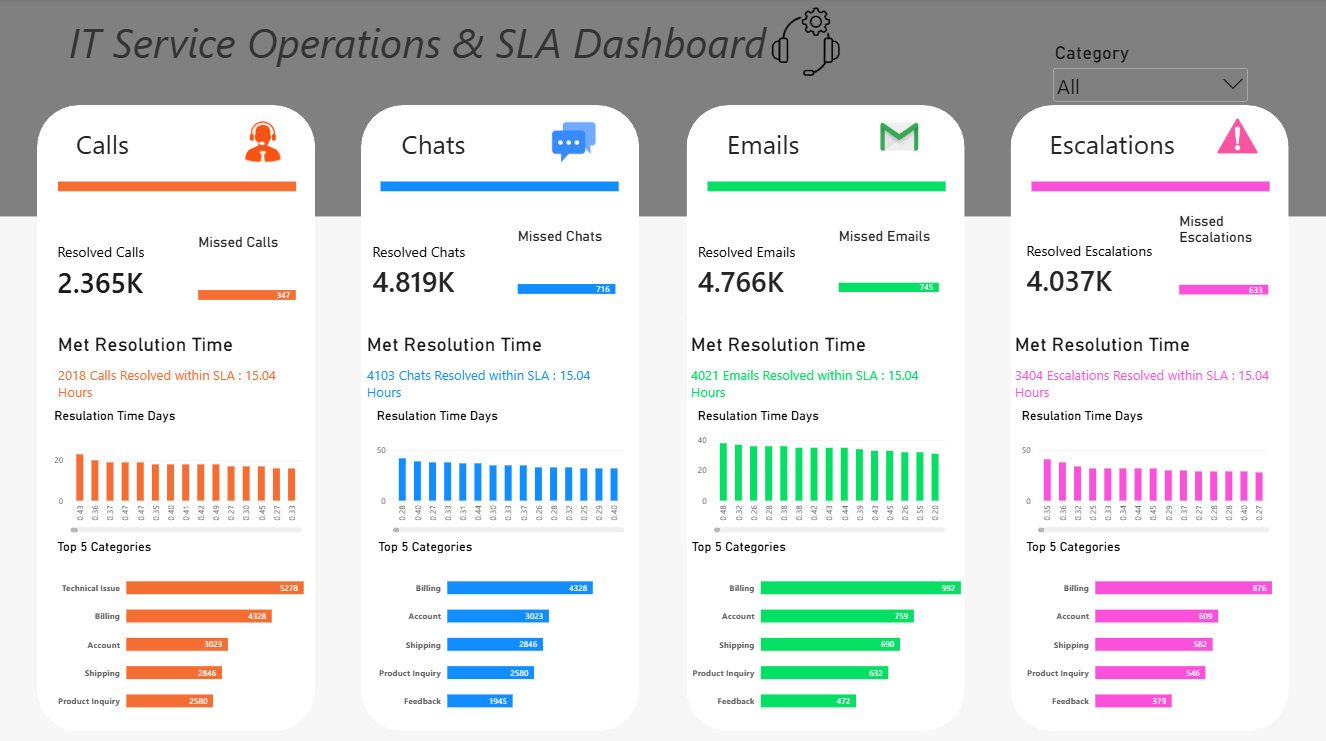

What the dashboard file says about the page in this screenshot:
{"tool":"powerbi","page":{"name":"Page 1","canvas":[1920,1080],"ordinal":0},"visuals":[{"type":"shape","box":[0,4.8,1920.7,310.2],"z":0},{"type":"shape","box":[1462.6,155.1,398.4,897.1],"z":1000},{"type":"shape","box":[999.7,155.1,398.4,897.1],"z":2000},{"type":"shape","box":[532.1,155.1,398.4,897.1],"z":3000},{"type":"shape","box":[69.2,155.1,398.4,897.1],"z":4000},{"type":"cardVisual","fields":{"Data":["customer_support_tickets.Total Tickets"]},"box":[81.1,336.4,238.6,112.1],"z":5000},{"type":"cardVisual","title":"R","fields":{"Data":["customer_support_tickets.Total Tickets"]},"box":[532.1,314.9,281.5,155.1],"z":6000},{"type":"cardVisual","fields":{"Data":["customer_support_tickets.Total Tickets"]},"box":[999.7,322.1,280.6,141.7],"z":7000},{"type":"cardVisual","fields":{"Data":["customer_support_tickets.Total Tickets"]},"box":[1469.7,322.1,280.6,138.9],"z":8000},{"type":"clusteredColumnChart","title":"Resulation Time Days","fields":{"Category":["customer_support_tickets.resolution_days"],"Y":["customer_support_tickets.Total Tickets"]},"box":[76.3,575,386.5,207.6],"z":9000},{"type":"textbox","title":"Met Resolution Time","box":[97.8,482,369.8,109.8],"z":10000},{"type":"clusteredBarChart","title":"Top 5 Categories","fields":{"Category":["customer_support_tickets.category"],"Y":["customer_support_tickets.Total Tickets"]},"box":[81.1,763.5,419.9,288.7],"z":11000},{"type":"shape","box":[97.8,264.8,341.2,14.3],"z":12000},{"type":"textbox","box":[124.1,183.7,343.6,81.1],"z":13000},{"type":"textbox","box":[591.7,183.7,338.8,81.1],"z":14000},{"type":"shape","box":[560.7,264.8,341.2,14.3],"z":15000},{"type":"textbox","box":[1057,183.7,224.3,713.4],"z":16000},{"type":"shape","box":[1028.3,264.8,341.2,14.3],"z":17000},{"type":"textbox","box":[1519.8,183.7,260.1,713.4],"z":18000},{"type":"shape","box":[1493.6,264.8,341.2,14.3],"z":19000},{"type":"textbox","title":"Met Resolution Time","box":[541.6,482,388.9,109.8],"z":20000},{"type":"textbox","title":"Met Resolution Time","box":[1004.5,482,388.9,109.8],"z":21000},{"type":"textbox","title":"Met Resolution Time","box":[1469.7,482,388.9,109.8],"z":22000},{"type":"clusteredColumnChart","title":"Resulation Time Days","fields":{"Category":["customer_support_tickets.resolution_days"],"Y":["customer_support_tickets.Total Tickets"]},"box":[999.7,575,386.5,207.6],"z":23000},{"type":"clusteredColumnChart","title":"Resulation Time Days","fields":{"Category":["customer_support_tickets.resolution_days"],"Y":["customer_support_tickets.Total Tickets"]},"box":[1462.6,575,386.5,207.6],"z":24000},{"type":"clusteredColumnChart","title":"Resulation Time Days","fields":{"Category":["customer_support_tickets.resolution_days"],"Y":["customer_support_tickets.Total Tickets"]},"box":[539.2,575,386.5,207.6],"z":25000},{"type":"clusteredBarChart","title":"Top 5 Categories","fields":{"Category":["customer_support_tickets.category"],"Y":["customer_support_tickets.Total Tickets"]},"box":[541.6,763.5,419.9,288.7],"z":26000},{"type":"clusteredBarChart","title":"Top 5 Categories","fields":{"Category":["customer_support_tickets.category"],"Y":["customer_support_tickets.Total Tickets"]},"box":[990.2,763.5,419.9,288.7],"z":27000},{"type":"clusteredBarChart","title":"Top 5 Categories","fields":{"Category":["customer_support_tickets.category"],"Y":["customer_support_tickets.Total Tickets"]},"box":[1469.7,763.5,419.9,288.7],"z":28000},{"type":"clusteredBarChart","title":"Missed Chats","fields":{"Y":["customer_support_tickets.SLA MissedO"]},"box":[742,314.9,188.5,162.2],"z":29000},{"type":"image","box":[796.9,176.6,81.1,64.4],"z":30000},{"type":"image","box":[1219.2,157.5,176.6,85.9],"z":31000},{"type":"image","box":[1739.3,174.2,95.4,50.1],"z":32000},{"type":"slicer","fields":{"Values":["customer_support_tickets.category"]},"box":[1519.8,64.4,288.7,109.8],"z":33000},{"type":"textbox","box":[100.2,23.9,1150,159.9],"z":34000},{"type":"image","box":[1030.7,2.4,276.8,124.1],"z":35000},{"type":"image","box":[346,176.6,93.1,62],"z":36000},{"type":"clusteredBarChart","title":"Missed Calls","fields":{"Y":["customer_support_tickets.SLA MissedO"]},"box":[283.9,324.5,193.3,162.2],"z":37000},{"type":"clusteredBarChart","title":"Missed     Escalations","fields":{"Y":["customer_support_tickets.SLA MissedO"]},"box":[1689.2,293.5,193.3,183.7],"z":38000},{"type":"clusteredBarChart","title":"Missed Emails","fields":{"Y":["customer_support_tickets.SLA MissedO"]},"box":[1200.1,314.9,186.1,157.5],"z":39000}]}

Visuals, with their boxes in screenshot pixels (x1, y1, x2, y2), scaled from the page's 1920x1080 canvas onto the 1326x741 screenshot:
shape: left=0, top=3, right=1325, bottom=216
shape: left=1010, top=106, right=1285, bottom=722
shape: left=690, top=106, right=966, bottom=722
shape: left=367, top=106, right=643, bottom=722
shape: left=48, top=106, right=323, bottom=722
cardVisual - customer_support_tickets.Total Tickets: left=56, top=231, right=221, bottom=308
"R" cardVisual: left=367, top=216, right=562, bottom=322
cardVisual - customer_support_tickets.Total Tickets: left=690, top=221, right=884, bottom=318
cardVisual - customer_support_tickets.Total Tickets: left=1015, top=221, right=1209, bottom=316
"Resulation Time Days" clusteredColumnChart: left=53, top=395, right=320, bottom=537
"Met Resolution Time" textbox: left=68, top=331, right=323, bottom=406
"Top 5 Categories" clusteredBarChart: left=56, top=524, right=346, bottom=722
shape: left=68, top=182, right=303, bottom=191
textbox: left=86, top=126, right=323, bottom=182
textbox: left=409, top=126, right=643, bottom=182
shape: left=387, top=182, right=623, bottom=191
textbox: left=730, top=126, right=885, bottom=616
shape: left=710, top=182, right=946, bottom=191
textbox: left=1050, top=126, right=1229, bottom=616
shape: left=1032, top=182, right=1267, bottom=191
"Met Resolution Time" textbox: left=374, top=331, right=643, bottom=406
"Met Resolution Time" textbox: left=694, top=331, right=962, bottom=406
"Met Resolution Time" textbox: left=1015, top=331, right=1284, bottom=406
"Resulation Time Days" clusteredColumnChart: left=690, top=395, right=957, bottom=537
"Resulation Time Days" clusteredColumnChart: left=1010, top=395, right=1277, bottom=537
"Resulation Time Days" clusteredColumnChart: left=372, top=395, right=639, bottom=537
"Top 5 Categories" clusteredBarChart: left=374, top=524, right=664, bottom=722
"Top 5 Categories" clusteredBarChart: left=684, top=524, right=974, bottom=722
"Top 5 Categories" clusteredBarChart: left=1015, top=524, right=1305, bottom=722
"Missed Chats" clusteredBarChart: left=512, top=216, right=643, bottom=327
image: left=550, top=121, right=606, bottom=165
image: left=842, top=108, right=964, bottom=167
image: left=1201, top=120, right=1267, bottom=154
slicer - customer_support_tickets.category: left=1050, top=44, right=1249, bottom=120
textbox: left=69, top=16, right=863, bottom=126
image: left=712, top=2, right=903, bottom=87
image: left=239, top=121, right=303, bottom=164
"Missed Calls" clusteredBarChart: left=196, top=223, right=330, bottom=334
"Missed     Escalations" clusteredBarChart: left=1167, top=201, right=1300, bottom=327
"Missed Emails" clusteredBarChart: left=829, top=216, right=957, bottom=324
